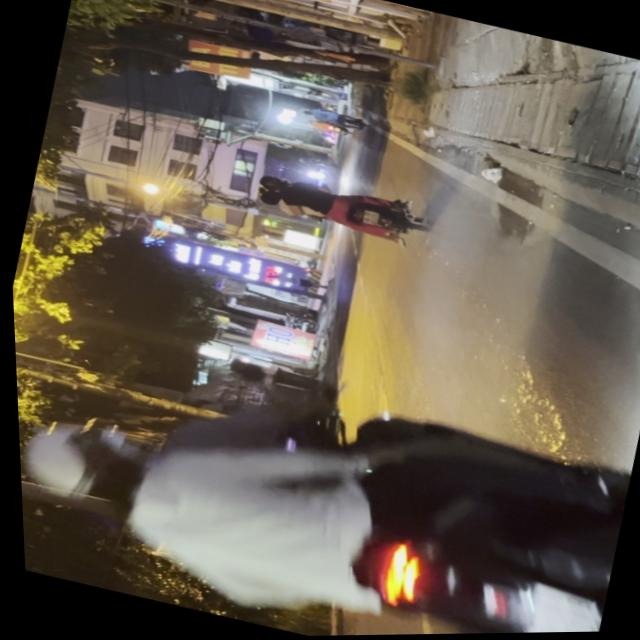helmet: (14, 409, 151, 516)
licenseplate: (11, 315, 635, 640)
nohelmet: (506, 582, 597, 634)
